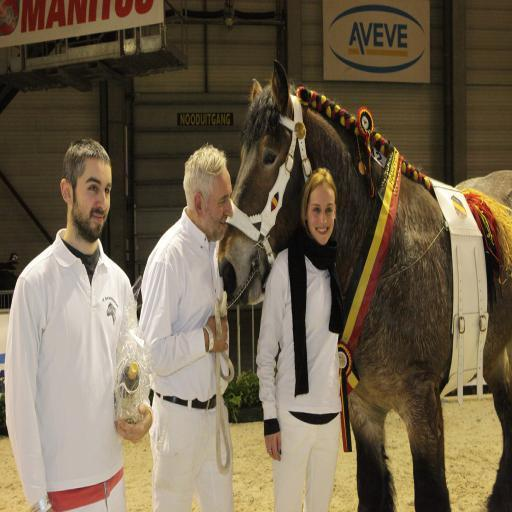horse: (216, 59, 512, 512)
